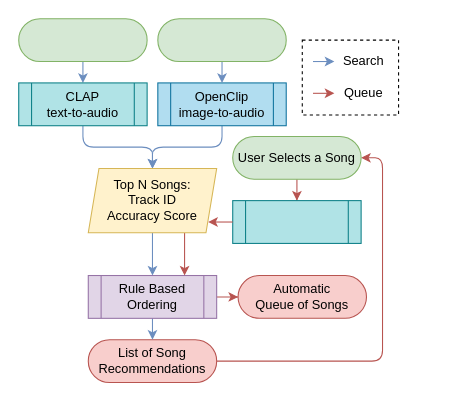
This 449x401 diagram has some shape labels left out. Each missing label, with the box of its shape:
CLAP audio-to-audio: (232, 200, 361, 243)
User Search Prompt: (18, 18, 147, 62)
User Uploaded Image: (157, 18, 286, 62)
